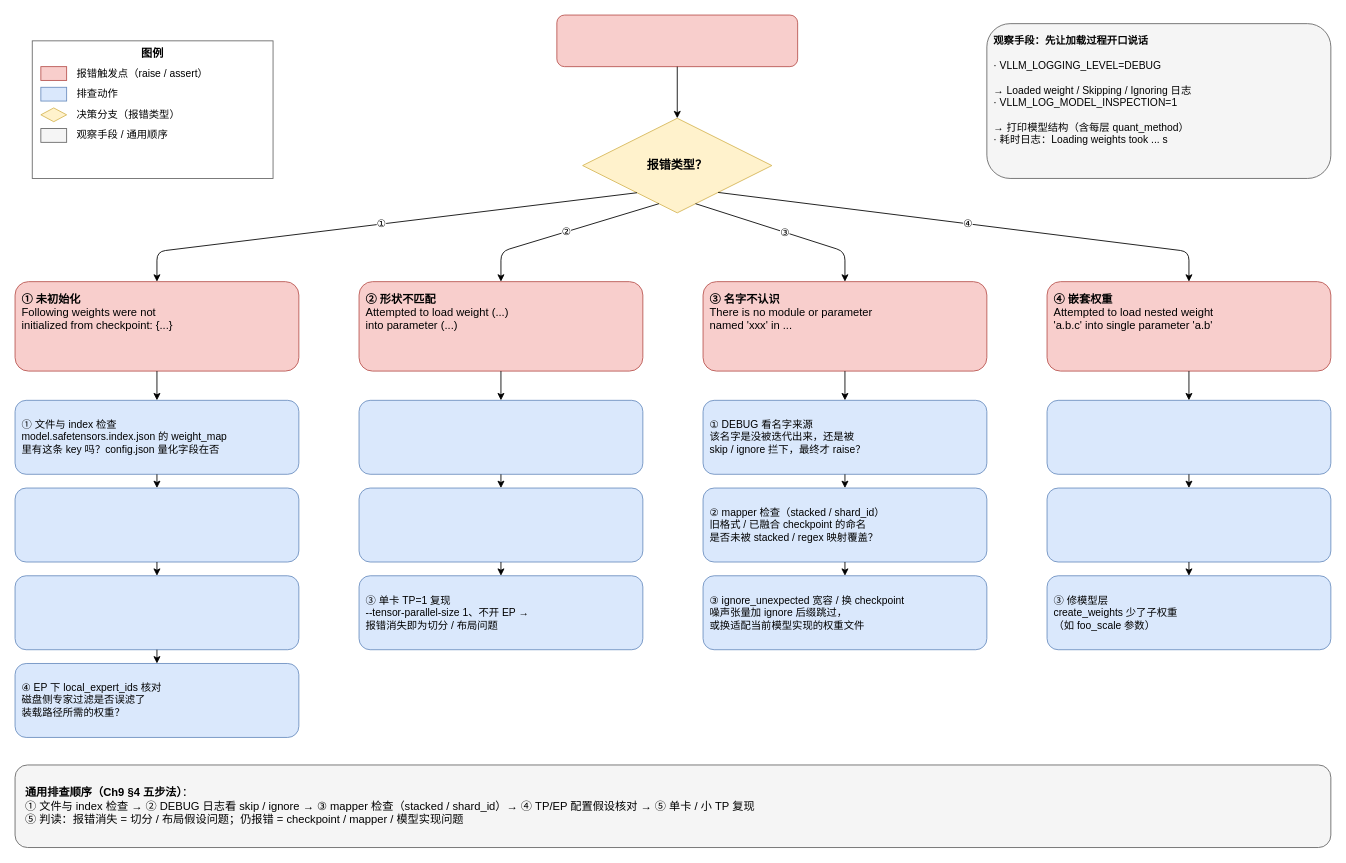
Image size: 1346x863. Some labels were removed from this diagram. Each missing label, with the box of its shape:
① 对照 named_parameters 'xxx' 在模型里是叶子参数 还是子模块？: (1046, 399, 1331, 474)
① 对照两边 shape DEBUG 日志的 loaded weight with shape vs 模型参数 param.shape 各是多少: (358, 399, 643, 474)
② DEBUG 看 skip / ignore 同名权重被 skip_prefixes / skip_substrs 误伤？或被 ignore 宽容放走？: (14, 487, 299, 562)
② ignore / mapper 改写 子张量（bits / scale 等）本应落在 哪个真实落点？: (1046, 487, 1331, 562)
② TP/EP 配置假设核对 切分维看错？hidden / head 未整除？ tp_size、专家数假设与 checkpoint 不符？: (358, 487, 643, 562)
③ mapper 检查（stacked / shard_id） checkpoint 名 ↔ 模型参数名的 stacked / regex 映射是否覆盖？: (14, 575, 299, 650)
加载报错 权重加载阶段（load_model）raise: (556, 14, 798, 67)
